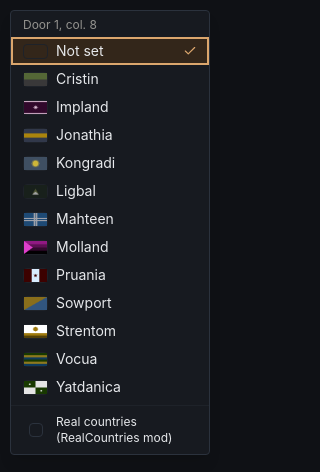
Scenario: the country picker on a door › switches to the RealCountries names in place, remembered by this browser and not by the plan
The image size is (320, 472).
Click the menu item "Real countries (RealCountries mod)". click: (110, 430)
box: [11, 410, 209, 450]
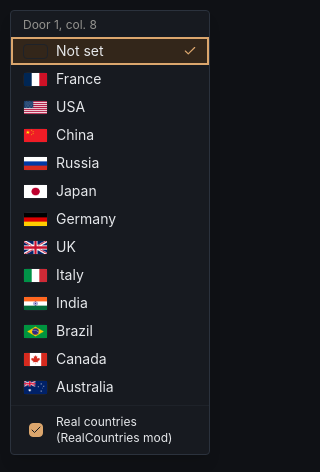
Now the menu item "France" is shown, box [11, 65, 209, 93]
